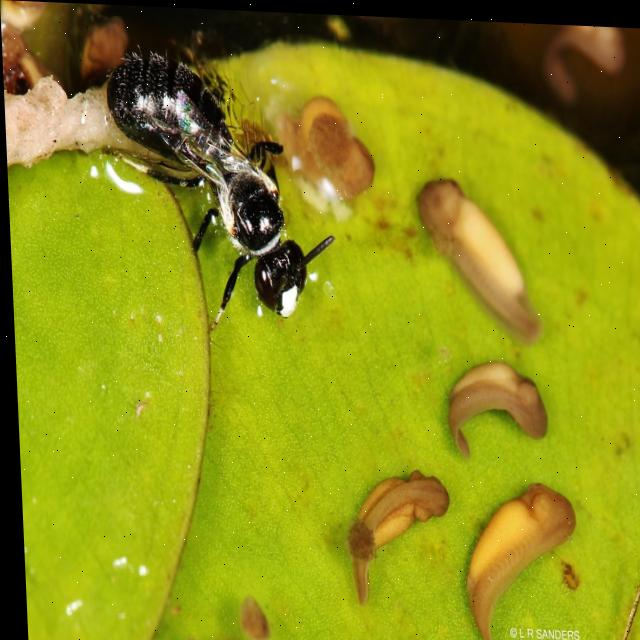Braunsapis: (82, 14, 349, 357)
